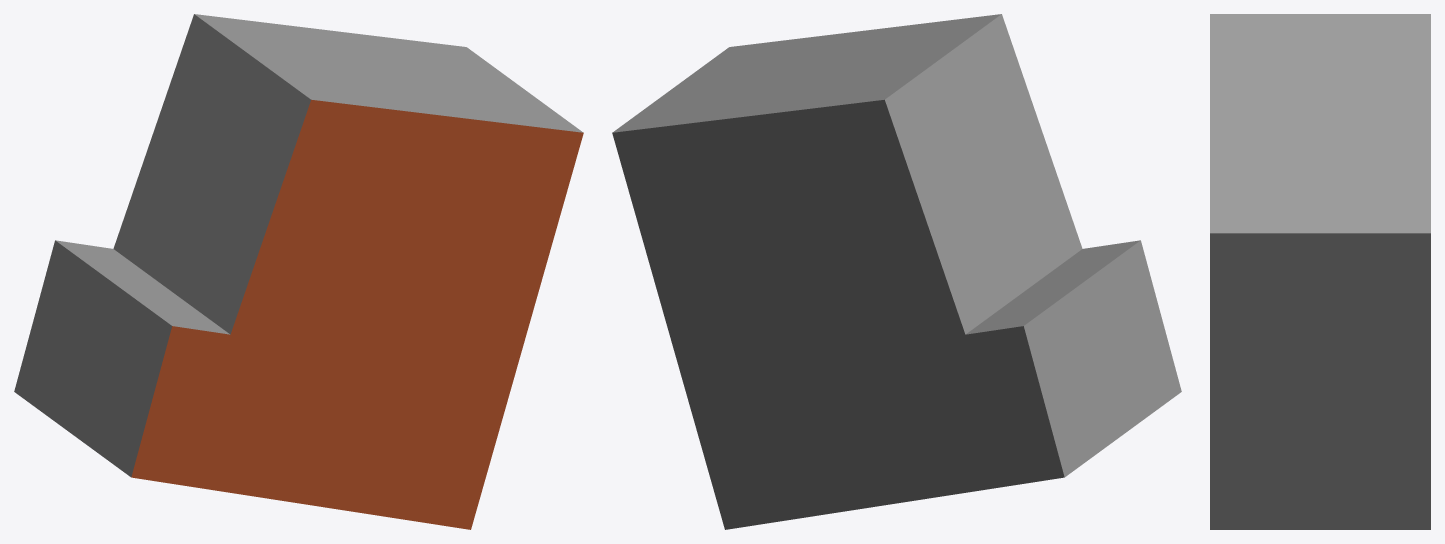
File: construction_5703_assumed_A_Casa_h6m.obj
3 renders of one model, left to right at view 1: azimuth 30°, elevation 25°; view 2: azimuth 150°, elevation 25°; view 3: azimuth 270°, elevation 25°, orthographic. The views are drawn at different scales.
Parts seen in each view (by area): view 1: construction_5703_assumed_A_Casa; view 2: construction_5703_assumed_A_Casa; view 3: construction_5703_assumed_A_Casa.
Boxes of the visible parts, <box> form: construction_5703_assumed_A_Casa: <box>14,14,583,529</box>; construction_5703_assumed_A_Casa: <box>612,14,1181,529</box>; construction_5703_assumed_A_Casa: <box>1210,14,1430,529</box>.
Size of the model in its own units: 13.38 by 13.26 by 6.
